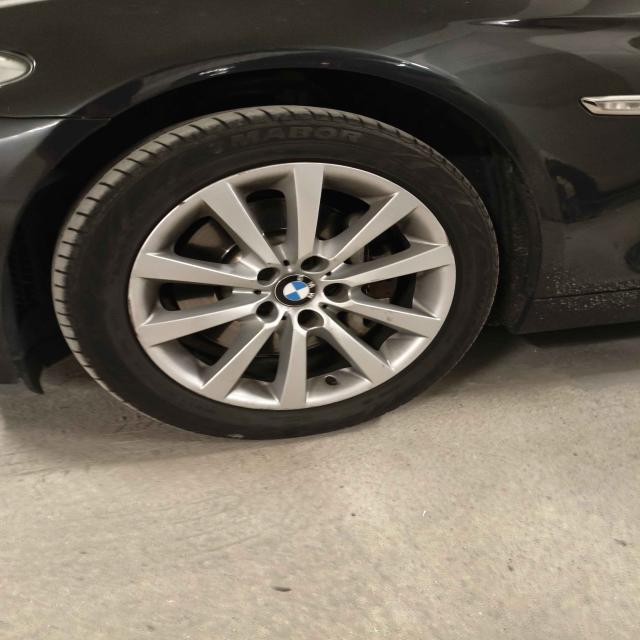jante: (128, 160, 458, 409)
parafuso: (290, 305, 326, 333), (254, 264, 284, 288), (253, 300, 280, 326), (324, 283, 354, 305), (300, 255, 329, 273)
roda: (49, 105, 500, 442)
